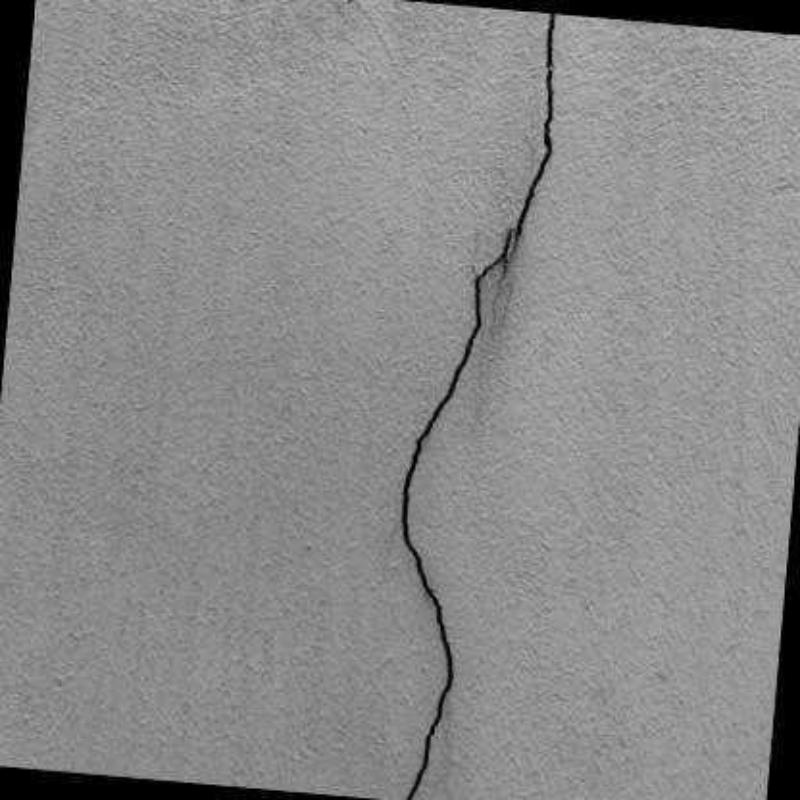pothole: (401, 12, 556, 798), (490, 229, 521, 325)
